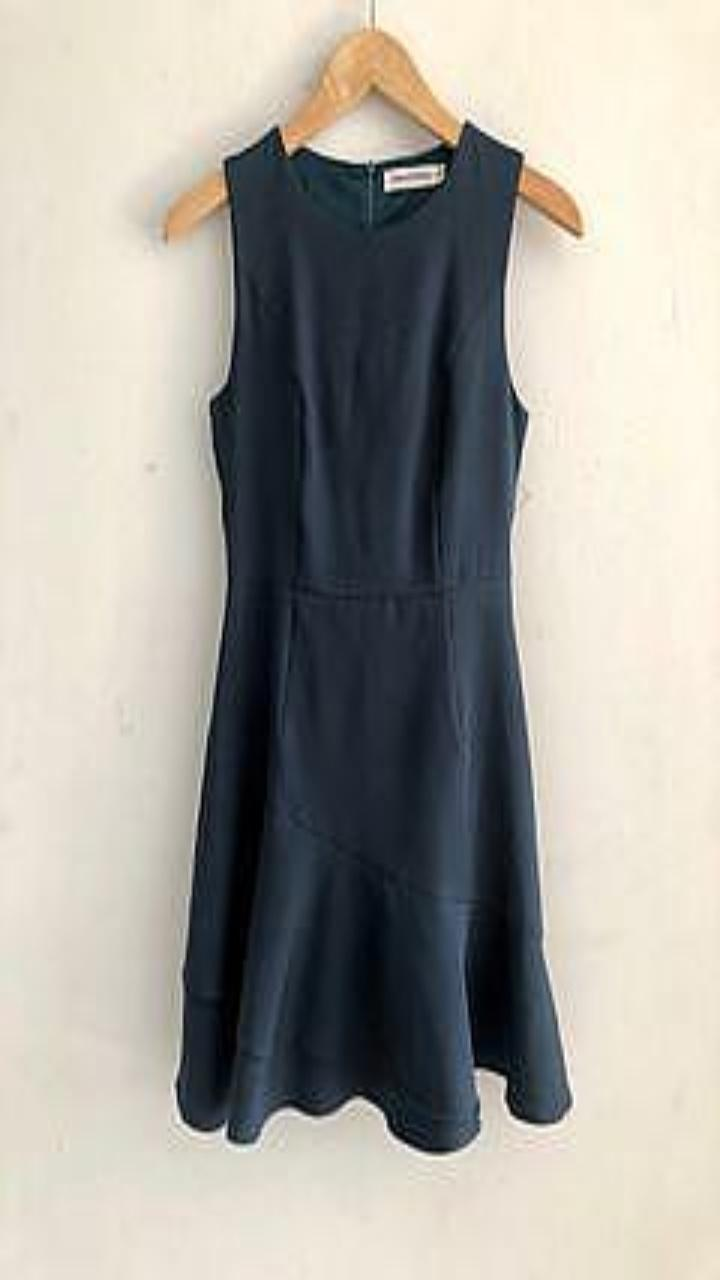Dresses: (176, 120, 571, 1151)
